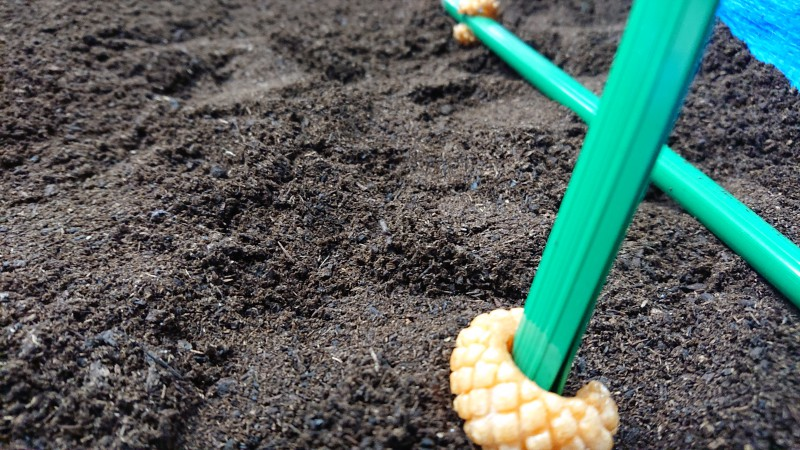eggs: (447, 292, 622, 450), (446, 1, 511, 46)
